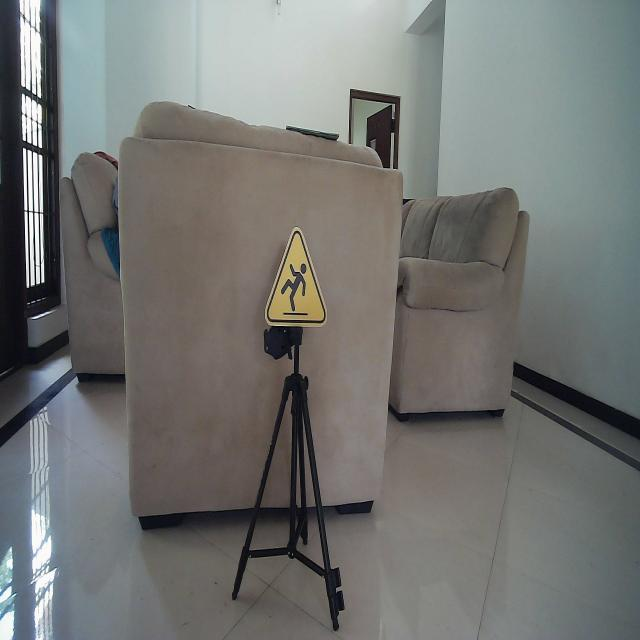slippery_sign: (264, 225, 329, 330)
